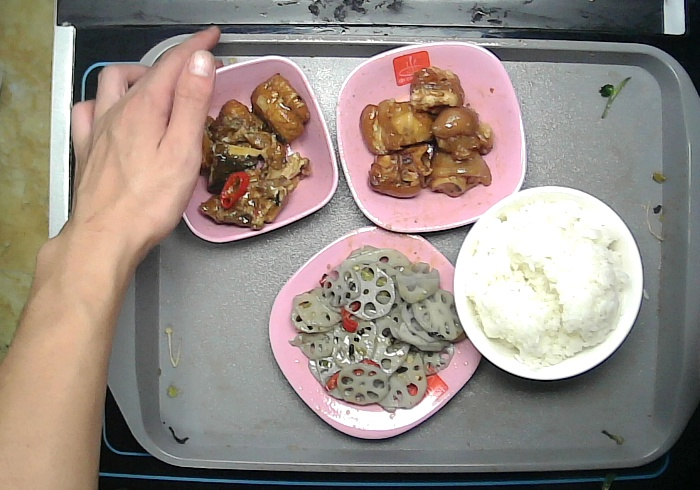SHKJ-Fan_Wan: (448, 180, 650, 388)
SHKJ-Fen_Se_Cai_Die: (331, 35, 531, 238)
SHKJ-Fen_Se_Si_Fang_Cai_Die: (264, 219, 496, 443)
SHKJ-Fen_Se_Xiao_Fang_Die: (144, 55, 344, 247)
